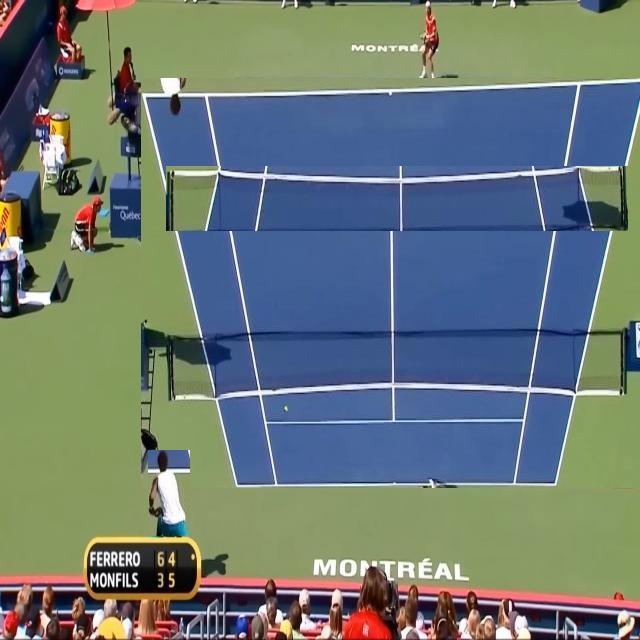court: (141, 79, 640, 488)
net: (166, 166, 628, 231)
player: (148, 451, 190, 536)
